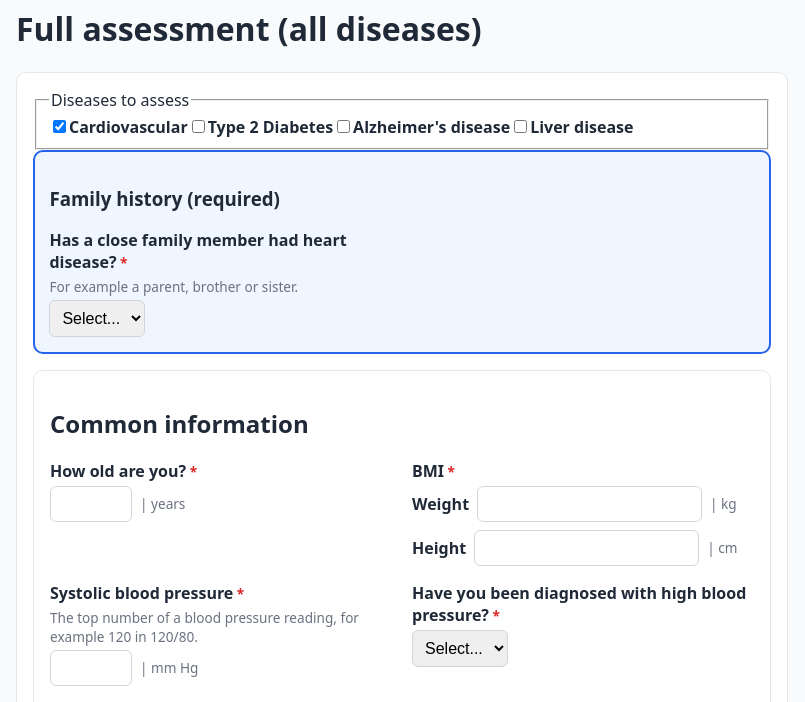
Scenario: Full assessment › shows four unchecked checkboxes and does not let the last one be unchecked
Earlier steps of the test are not shown.
Click the checkbox labelled "Type 2 Diabetes" at coordinates (198, 127), box [192, 120, 205, 134]
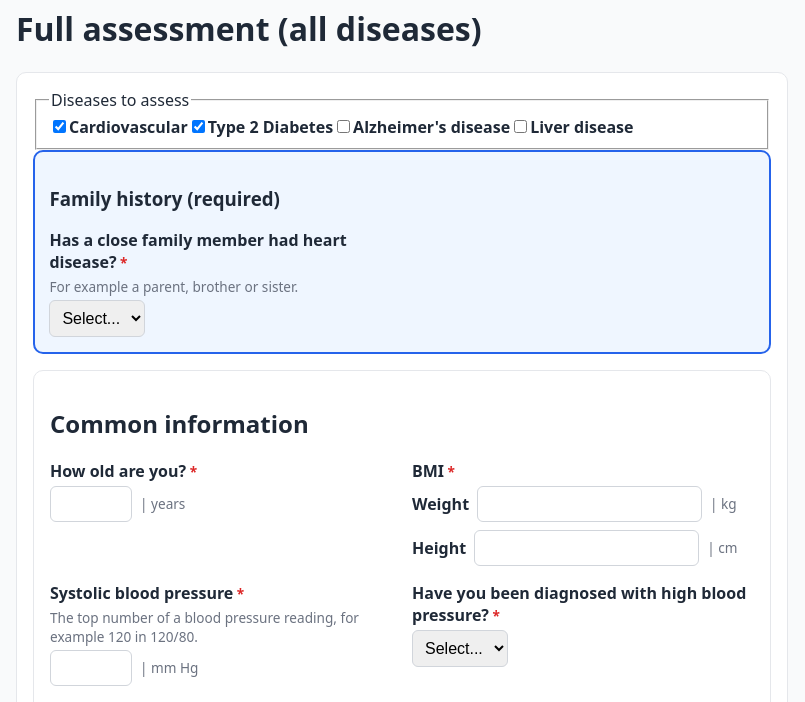
Click the checkbox labelled "Alzheimer's disease" at coordinates (344, 127), box [337, 120, 350, 134]
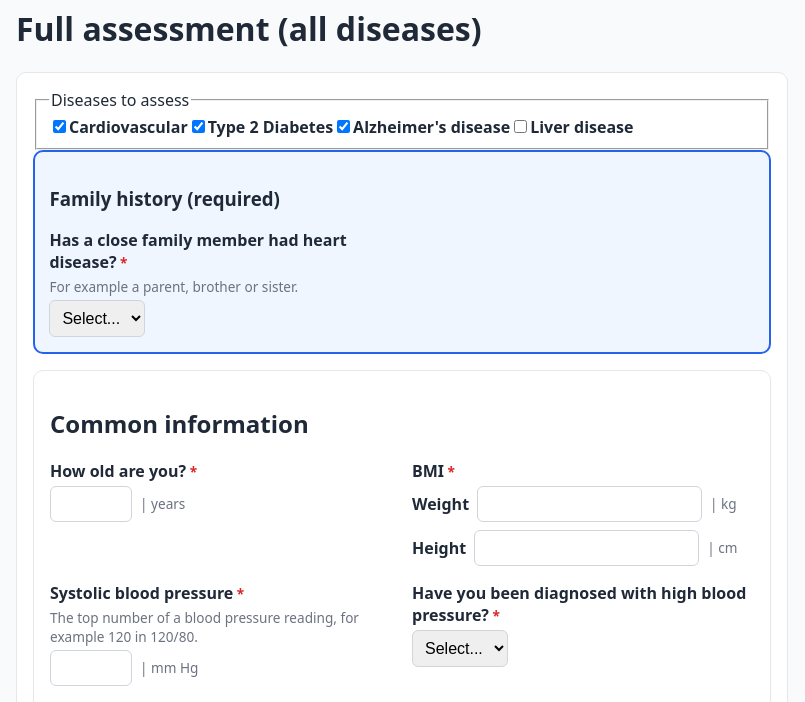
Click the checkbox labelled "Liver disease" at coordinates (521, 127), box [514, 120, 527, 134]
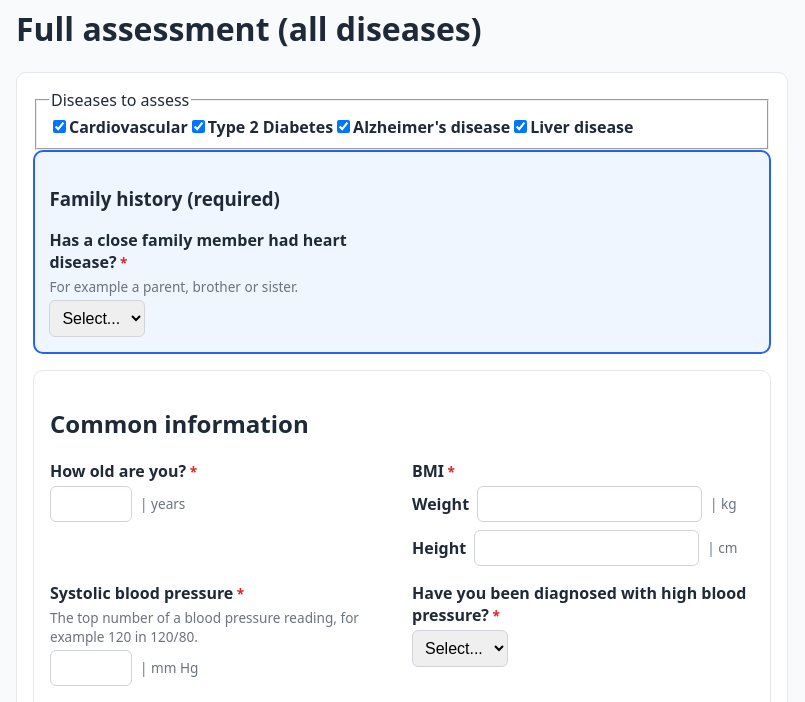
Click the checkbox labelled "Cardiovascular" at coordinates (60, 127), box [53, 120, 66, 134]
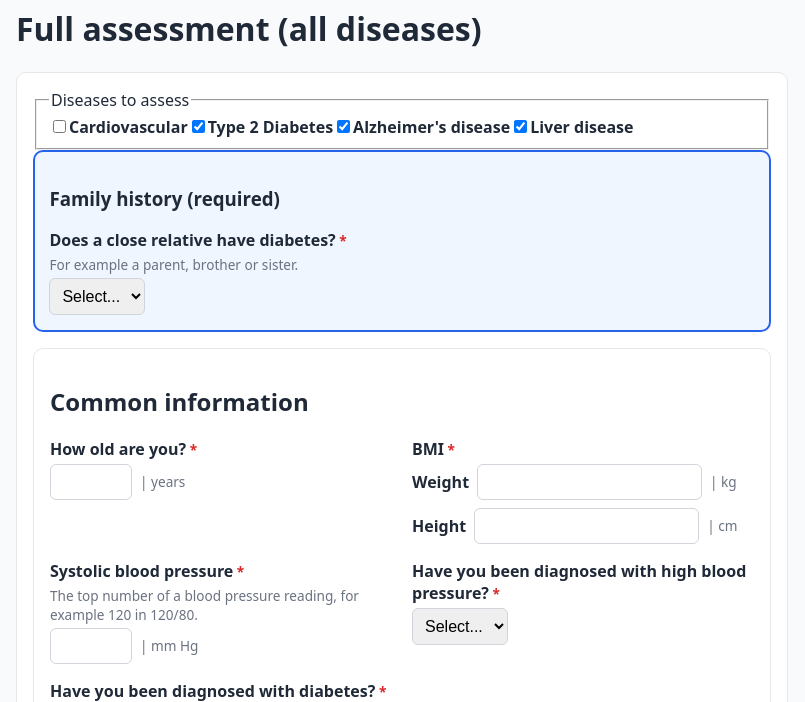
Click the checkbox labelled "Type 2 Diabetes" at coordinates (198, 127), box [192, 120, 205, 134]
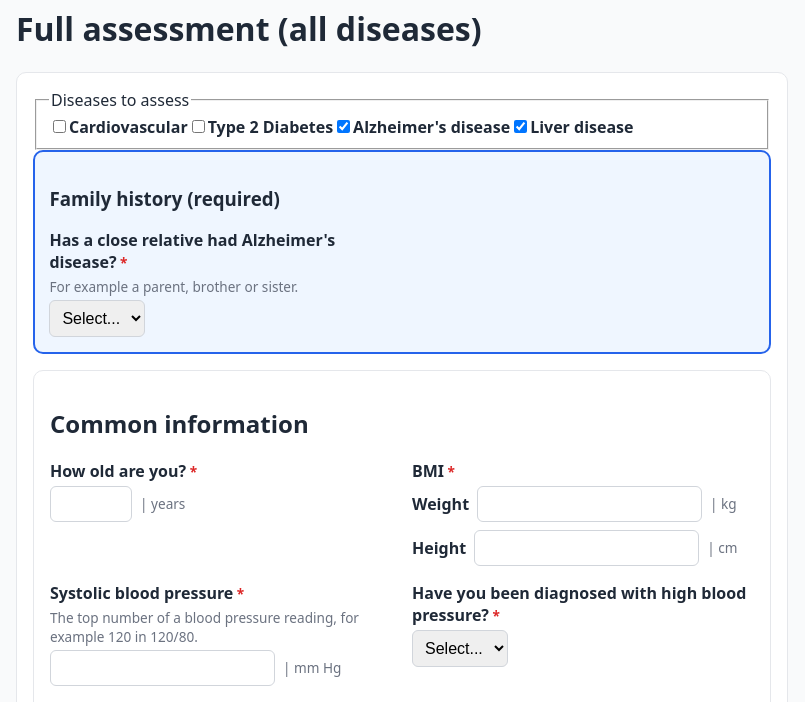
Click the checkbox labelled "Alzheimer's disease" at coordinates (344, 127), box [337, 120, 350, 134]
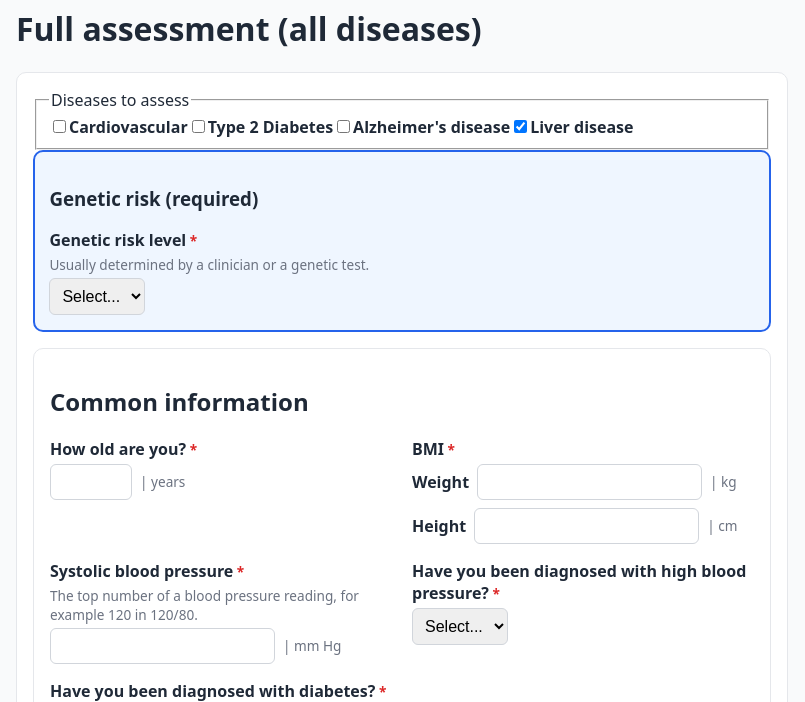
Check: the checkbox labelled "Liver disease" is checked, box [514, 120, 527, 134]
